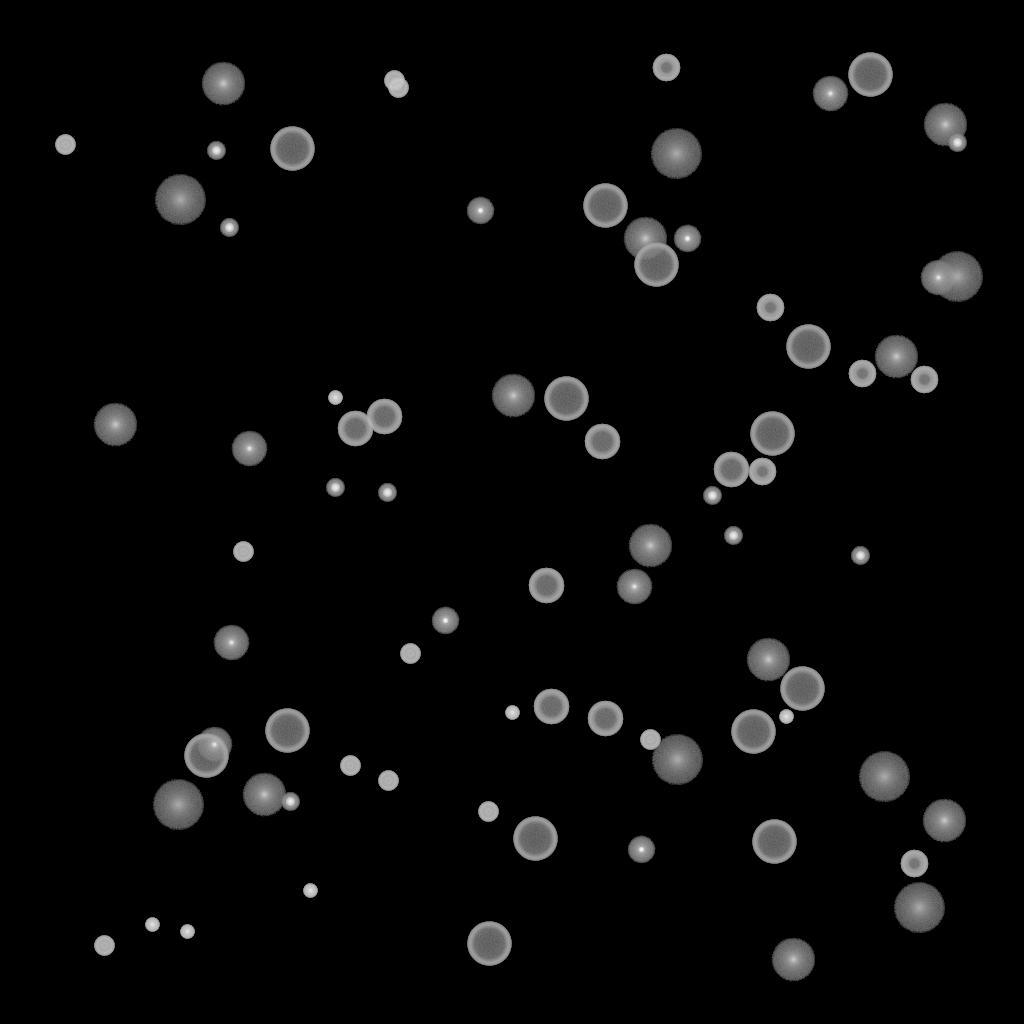depth:-10: (466, 197, 494, 225), (431, 607, 459, 635), (627, 836, 655, 864), (673, 225, 701, 253)
depth:-20: (851, 547, 869, 565), (220, 219, 238, 237), (207, 142, 225, 160), (326, 479, 344, 497), (703, 487, 721, 505), (948, 134, 966, 152), (378, 484, 396, 502), (281, 793, 299, 811), (724, 527, 742, 545)
depth:-30: (145, 918, 159, 932), (505, 706, 519, 720), (779, 710, 793, 724), (180, 925, 194, 939), (328, 391, 342, 405), (303, 884, 317, 898)
depth:-40: (340, 756, 360, 776), (55, 135, 75, 155), (388, 78, 408, 98), (378, 771, 398, 791), (384, 71, 404, 91), (94, 936, 114, 956), (640, 730, 660, 750), (478, 802, 498, 822), (233, 542, 253, 562), (400, 644, 420, 664)
depth:-50: (652, 54, 680, 82), (848, 360, 876, 388), (910, 366, 938, 394), (756, 294, 784, 322), (900, 850, 928, 878), (748, 458, 776, 486)
depth:-60: (528, 568, 564, 604), (533, 689, 569, 725), (337, 411, 373, 447), (366, 399, 402, 435), (587, 701, 623, 737), (584, 424, 620, 460), (713, 452, 749, 488)
depth:-70: (786, 325, 830, 369), (513, 817, 557, 861), (544, 377, 588, 421), (270, 127, 314, 171), (780, 667, 824, 711), (752, 820, 796, 864), (731, 710, 775, 754), (634, 243, 678, 287), (184, 734, 228, 778), (467, 922, 511, 966), (848, 53, 892, 97), (583, 184, 627, 228), (750, 412, 794, 456), (265, 709, 309, 753)
depth:0: (231, 431, 267, 467), (213, 625, 249, 661), (812, 76, 848, 112), (196, 727, 232, 763), (920, 260, 956, 296), (616, 569, 652, 605)
depth:10: (922, 799, 966, 843), (874, 335, 918, 379), (771, 938, 815, 982), (923, 103, 967, 147), (491, 374, 535, 418), (628, 524, 672, 568), (623, 217, 667, 261), (201, 62, 245, 106), (93, 403, 137, 447), (242, 773, 286, 817), (746, 638, 790, 682)
depth:20: (931, 252, 983, 302), (651, 735, 703, 785), (650, 129, 702, 179), (893, 883, 945, 933), (858, 752, 910, 802), (152, 780, 204, 830), (154, 175, 206, 225)
